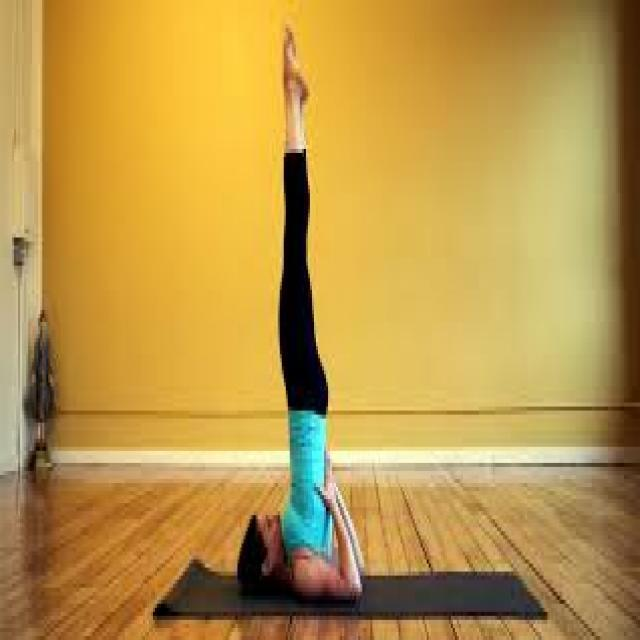yoga-pose shoulderstand: (234, 14, 364, 596)
